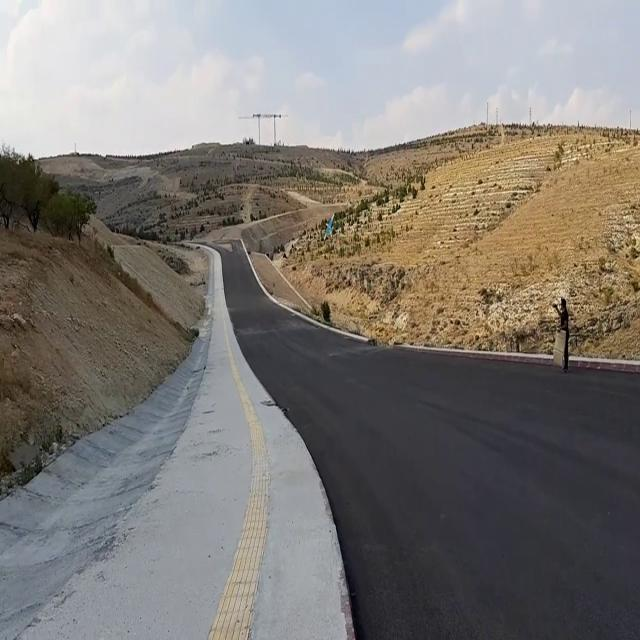iha: (321, 212, 326, 236)
